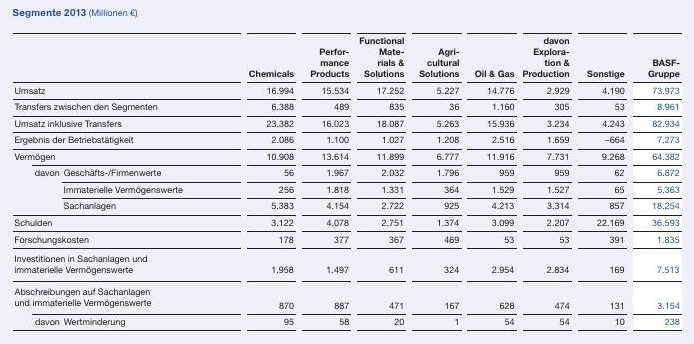table: (0, 0, 694, 344)
